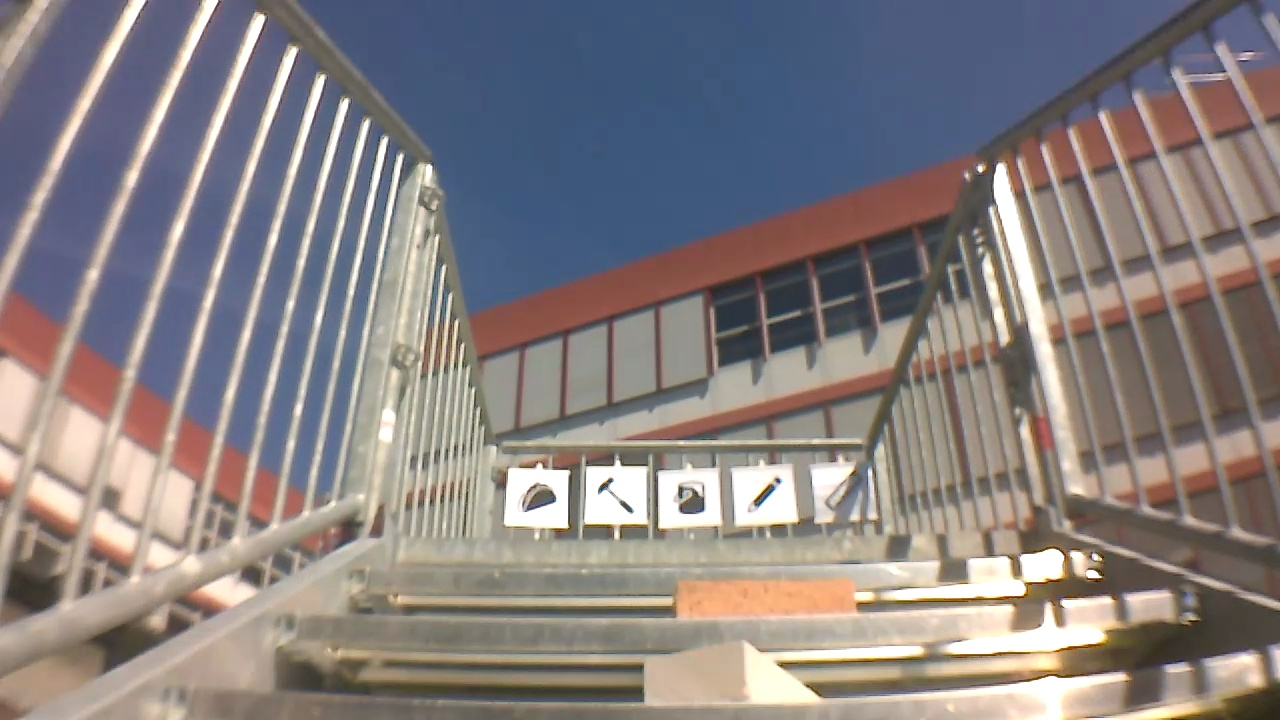brick: (649, 639, 842, 707), (670, 576, 856, 618)
edge: (271, 586, 1218, 660), (169, 663, 1280, 720), (345, 557, 1100, 590), (402, 521, 1040, 558)
steps: (27, 515, 1280, 720)
